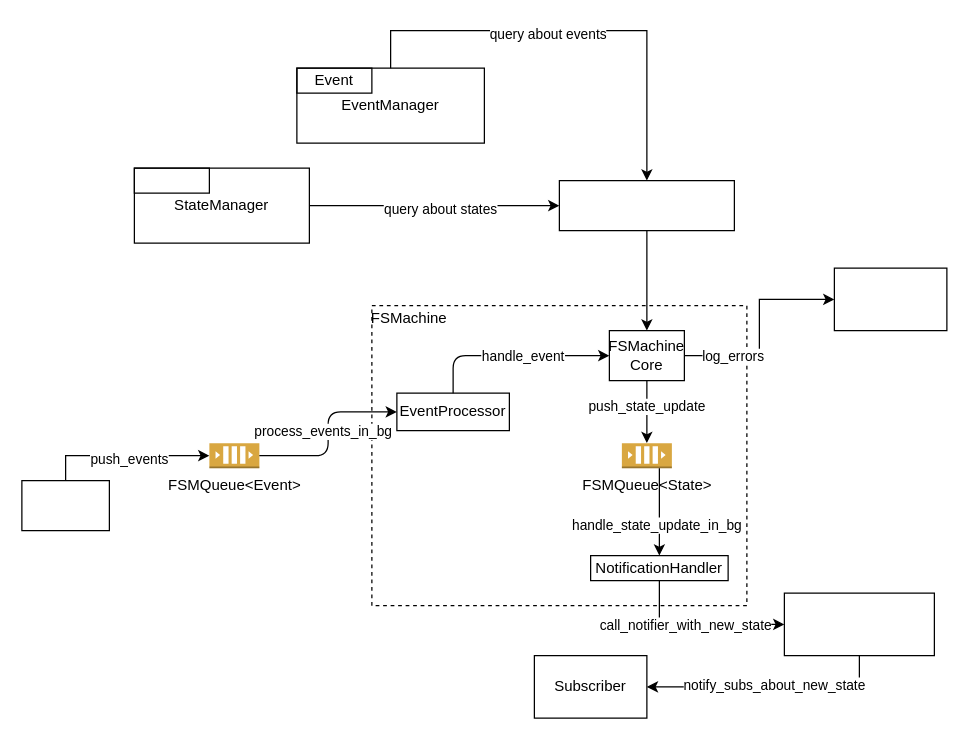
Image size: 969x740. Some labels were removed from this diagram. Here are the shapes that lost their labels. From the top down, the centre of each, then its label:
At (x=171, y=180): "State".
At (x=646, y=205): "EventToStateMapper".
At (x=890, y=299): "FSMLogger".
At (x=65, y=505): "Producer".
At (x=858, y=624): "StateToSubsNotifier".
